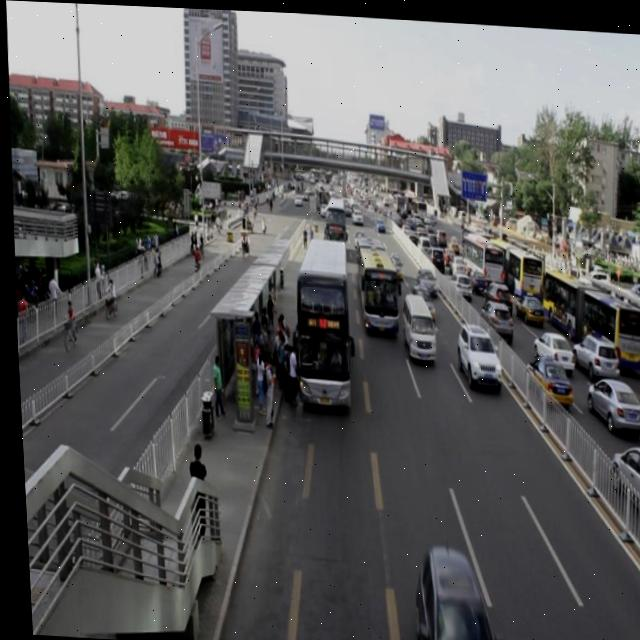car: (405, 537, 494, 640), (451, 317, 498, 386), (403, 279, 432, 320), (379, 247, 398, 278), (411, 264, 433, 290), (347, 202, 361, 221), (371, 213, 382, 231), (316, 196, 325, 213)
truck: (398, 291, 432, 357)
van: (287, 232, 349, 407), (350, 231, 395, 332), (320, 189, 345, 250)
